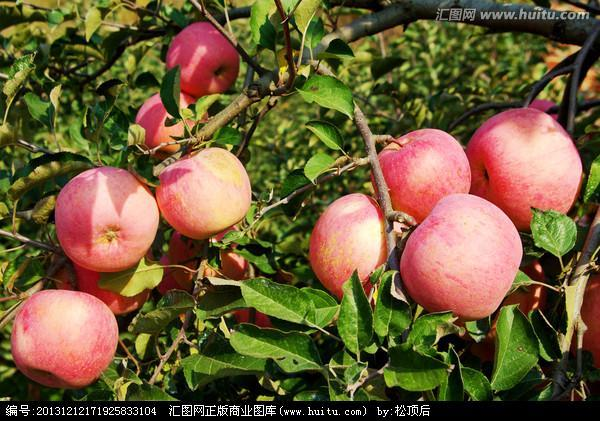apple: (399, 195, 524, 318), (464, 104, 583, 230), (53, 166, 161, 273), (10, 287, 118, 388), (367, 128, 472, 228), (154, 147, 253, 239), (307, 189, 386, 300), (166, 21, 240, 96)
